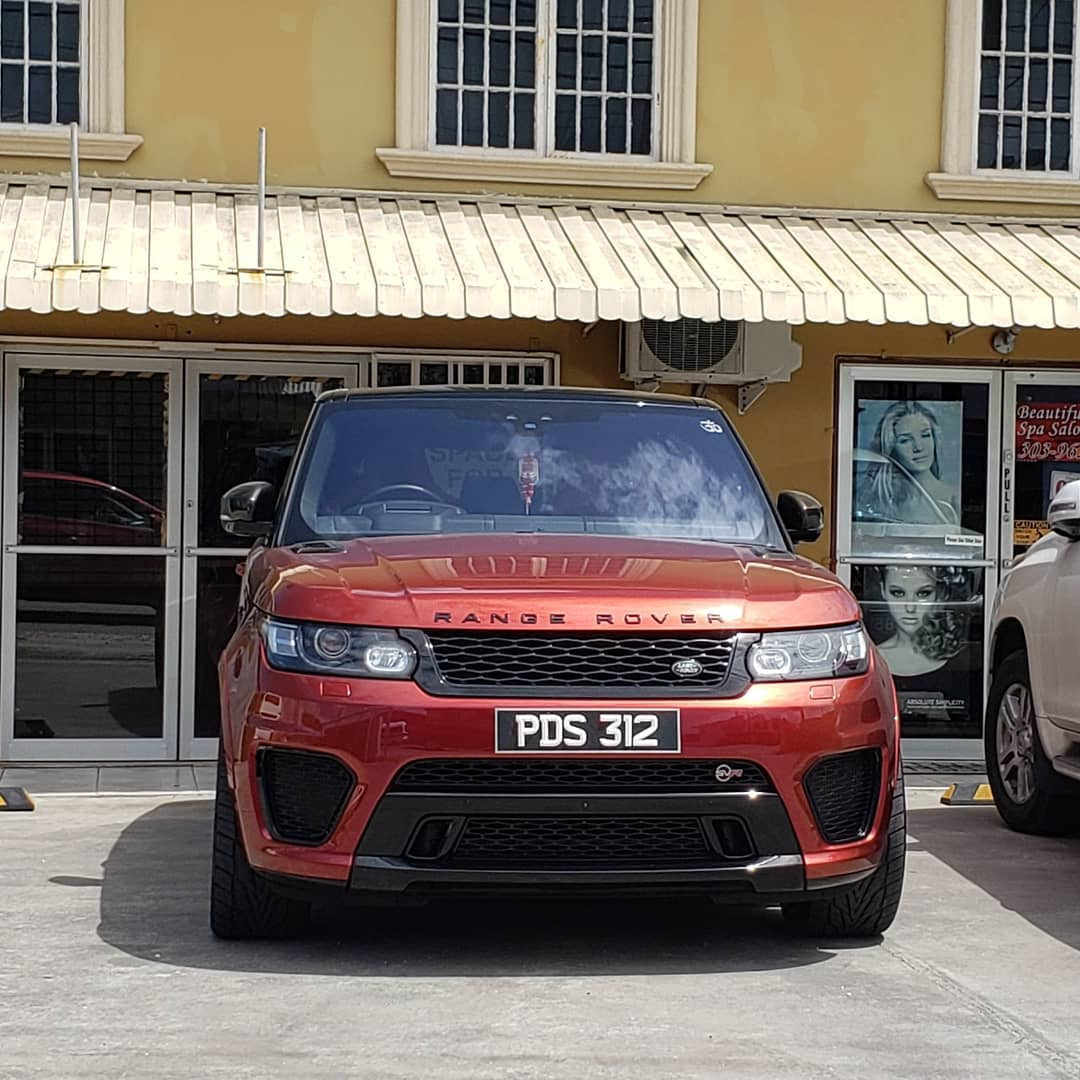License-Plate: (495, 709, 679, 750)
